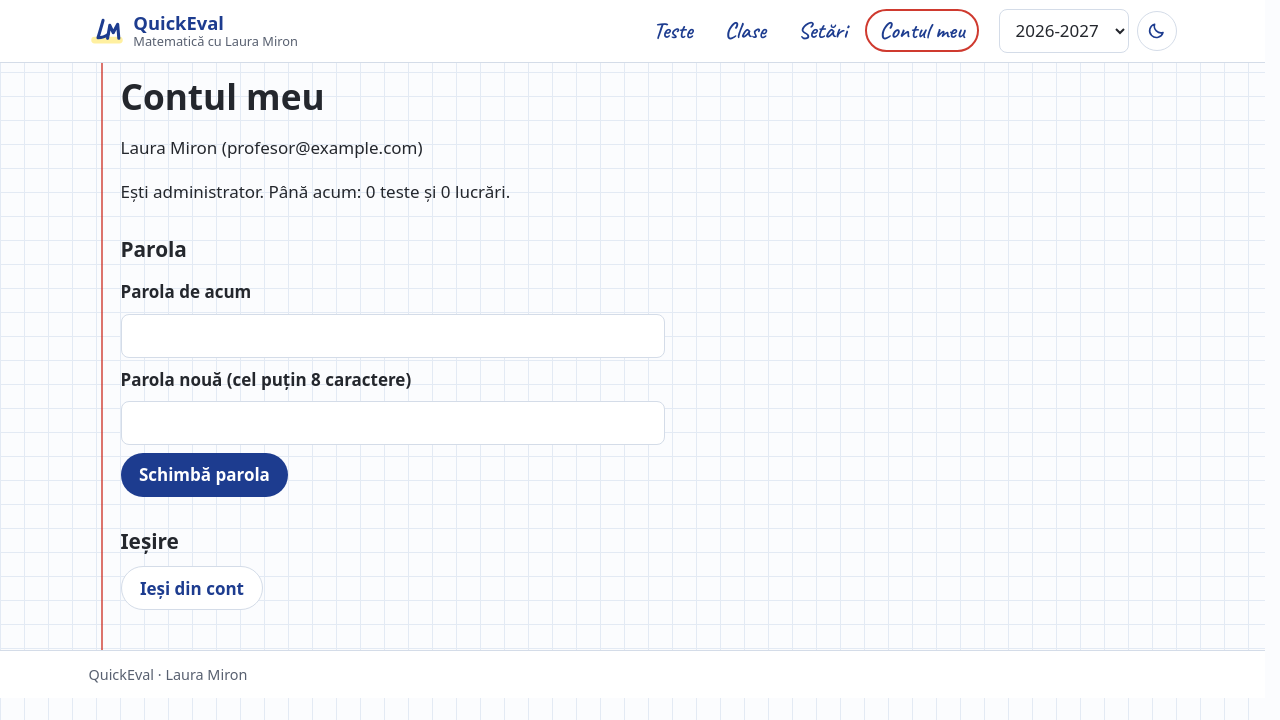
Test: AccountPage › shows a refused password change
Type "gresita" into the password field labelled "Parola de acum" at (392, 336), box [120,314,664,358]
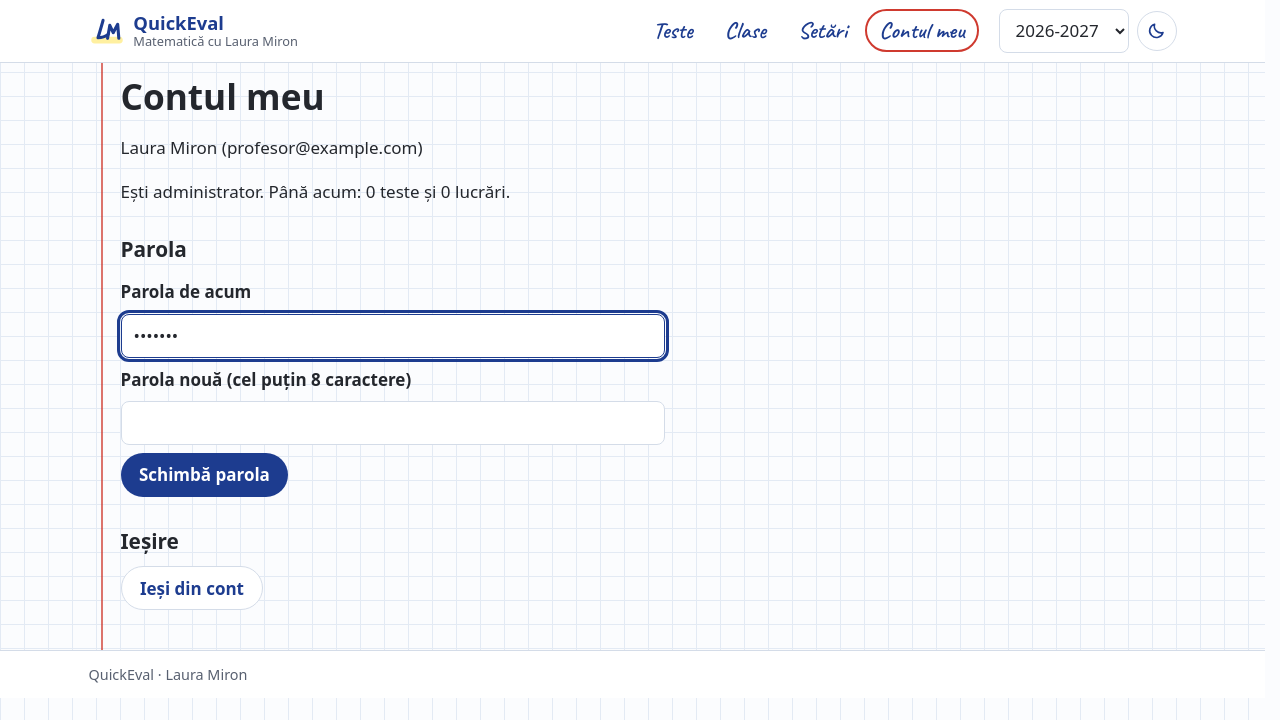
Type "parola-noua" into the password field labelled "Parola nouă (cel puțin 8 caractere)" at (392, 423), box [120,401,664,445]
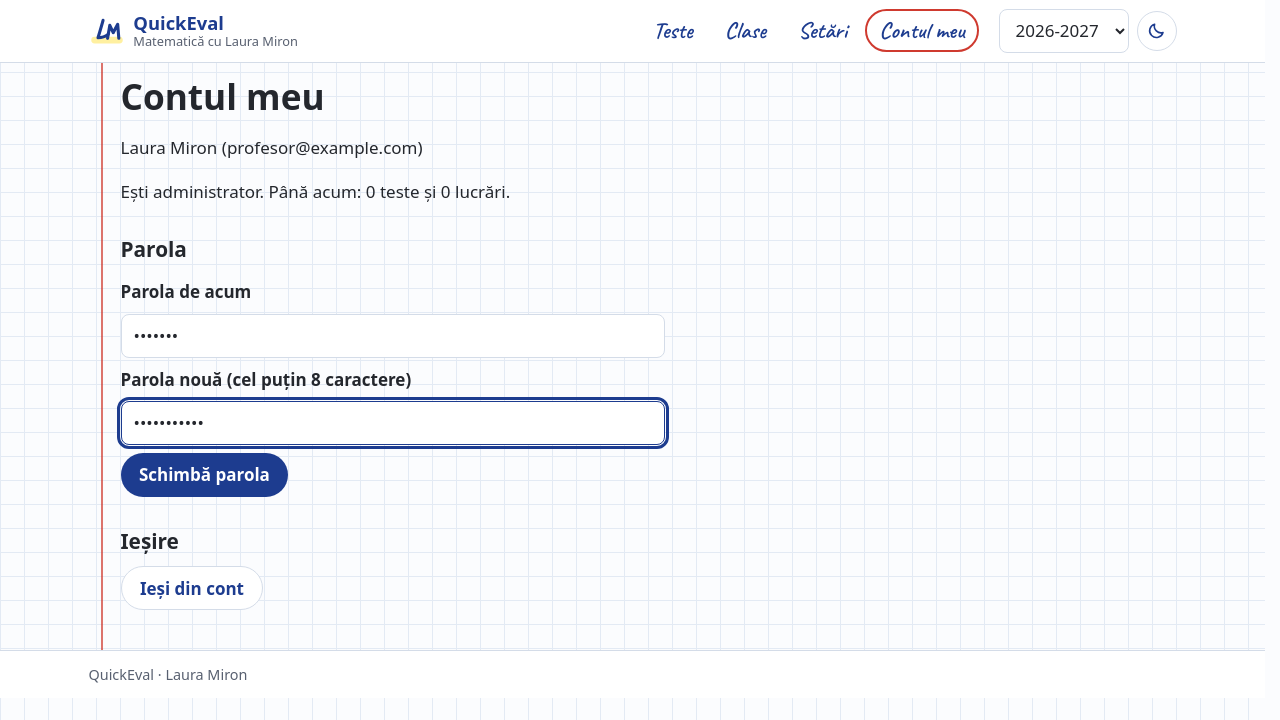
Click the button "Schimbă parola" at (204, 475), box [120,453,288,497]
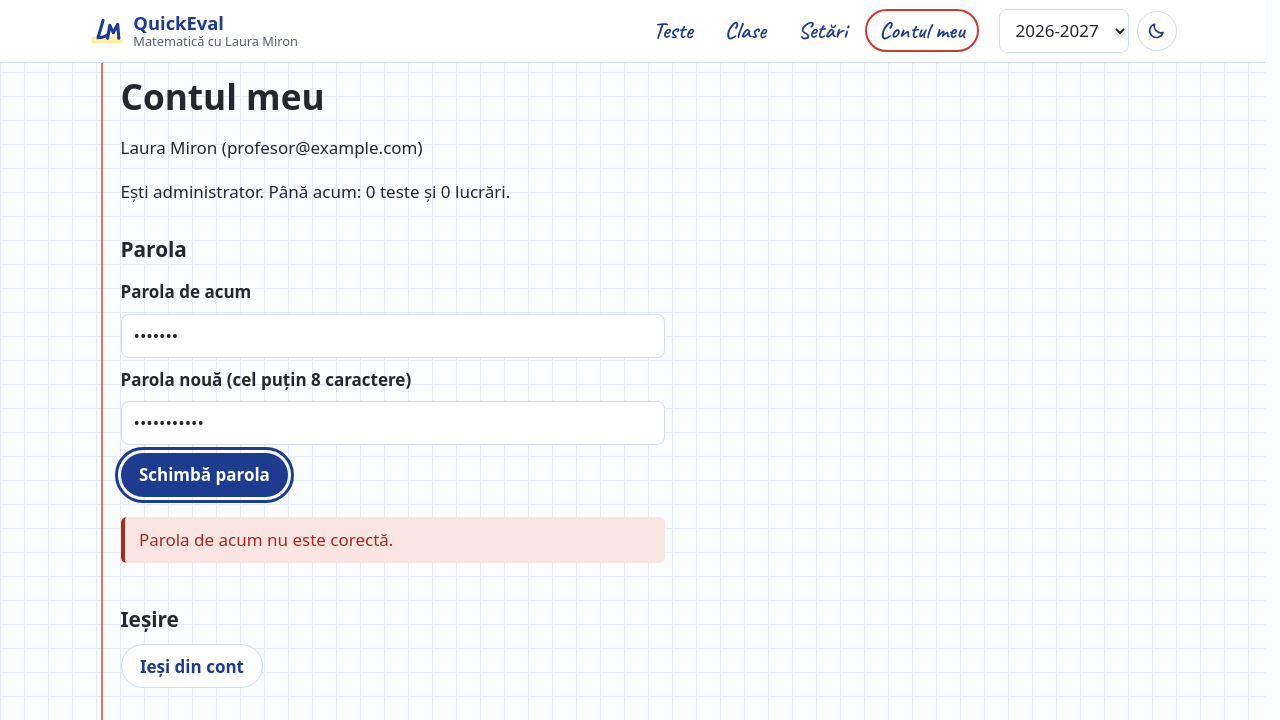
Now the message reads "Parola de acum nu este corectă.", box [139,528,393,551]
